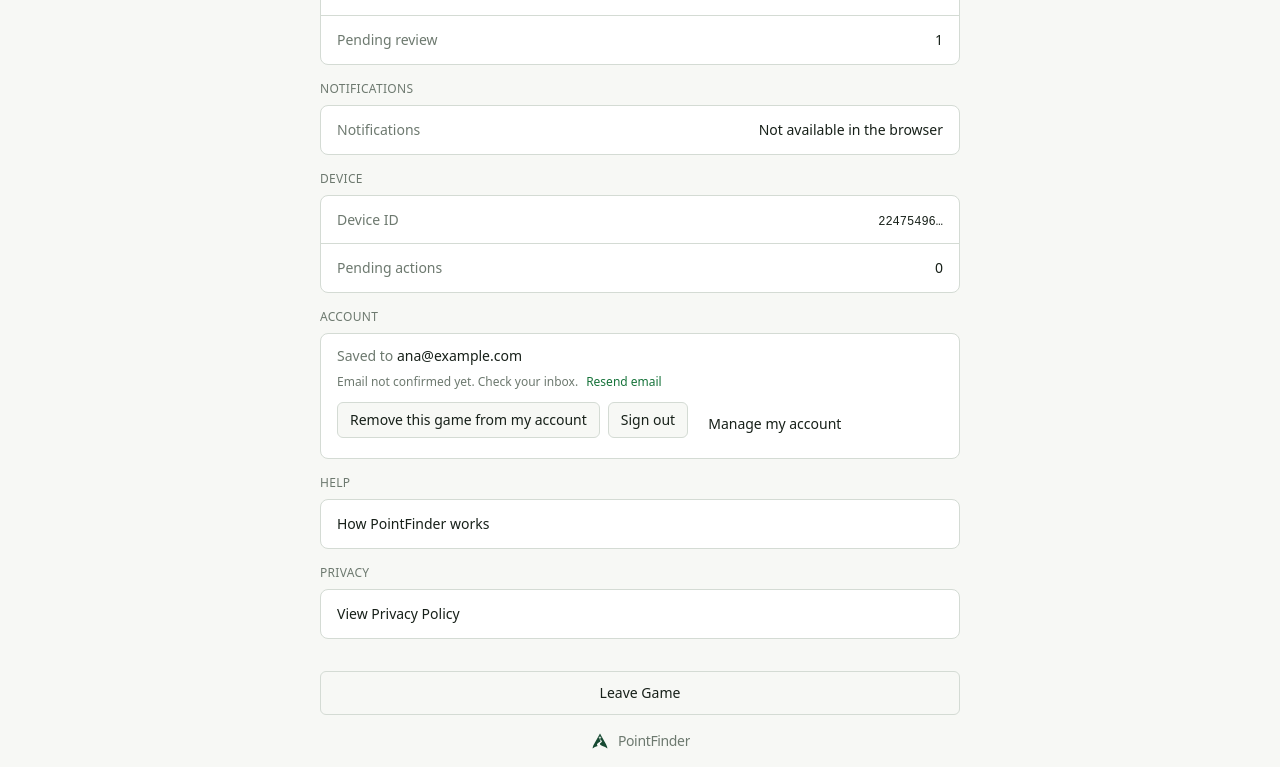
SettingsScreen › keeps account deletion out of game settings
(page scrolled)
Expected: the element with test id "settings-account-linked" shows "ana@example.com", left=397, top=346, right=522, bottom=365
Expected: the element with test id "settings-account-linked" shows "Email not confirmed yet", left=337, top=373, right=578, bottom=390
Click the button with test id "settings-resend-verification".
click(624, 382)  # box left=586, top=374, right=662, bottom=390
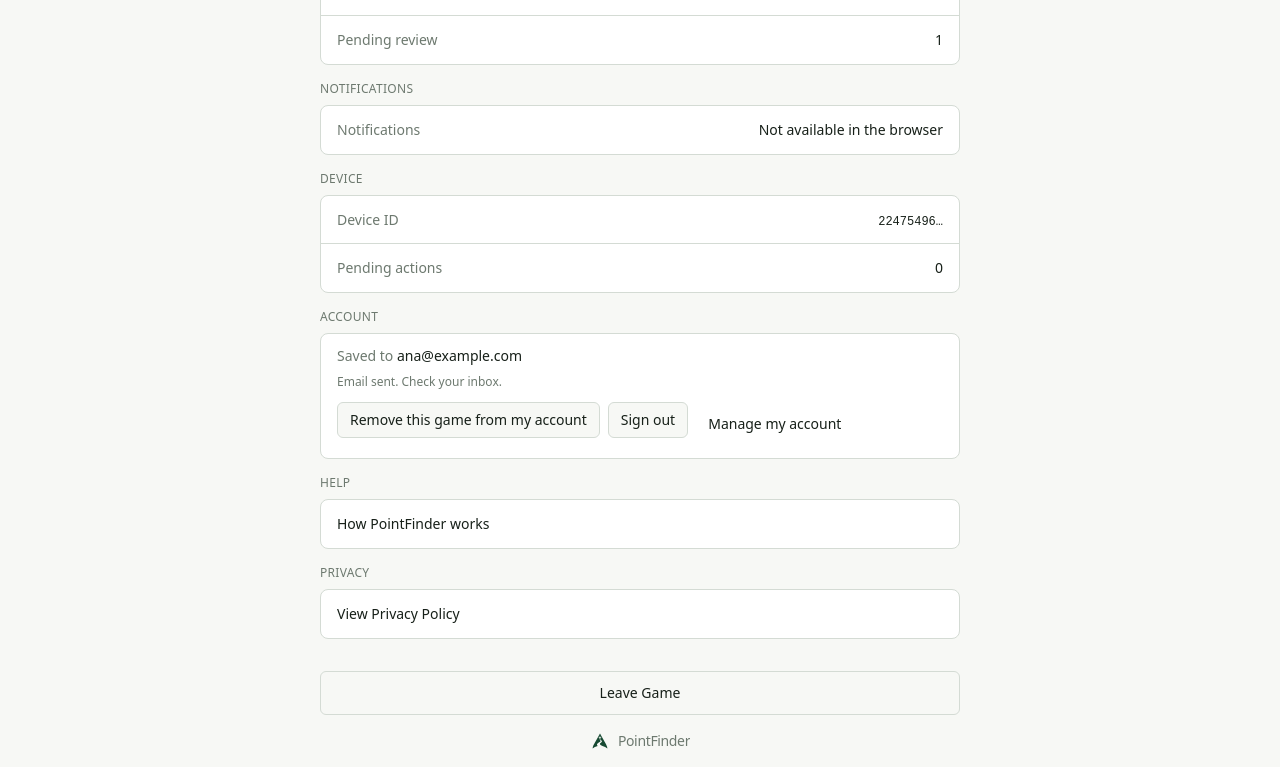
Expected: the element with test id "settings-account-unverified" shows "Email sent.", left=337, top=373, right=502, bottom=390
Click the button with test id "settings-unlink".
click(468, 420)  # box left=337, top=402, right=600, bottom=438
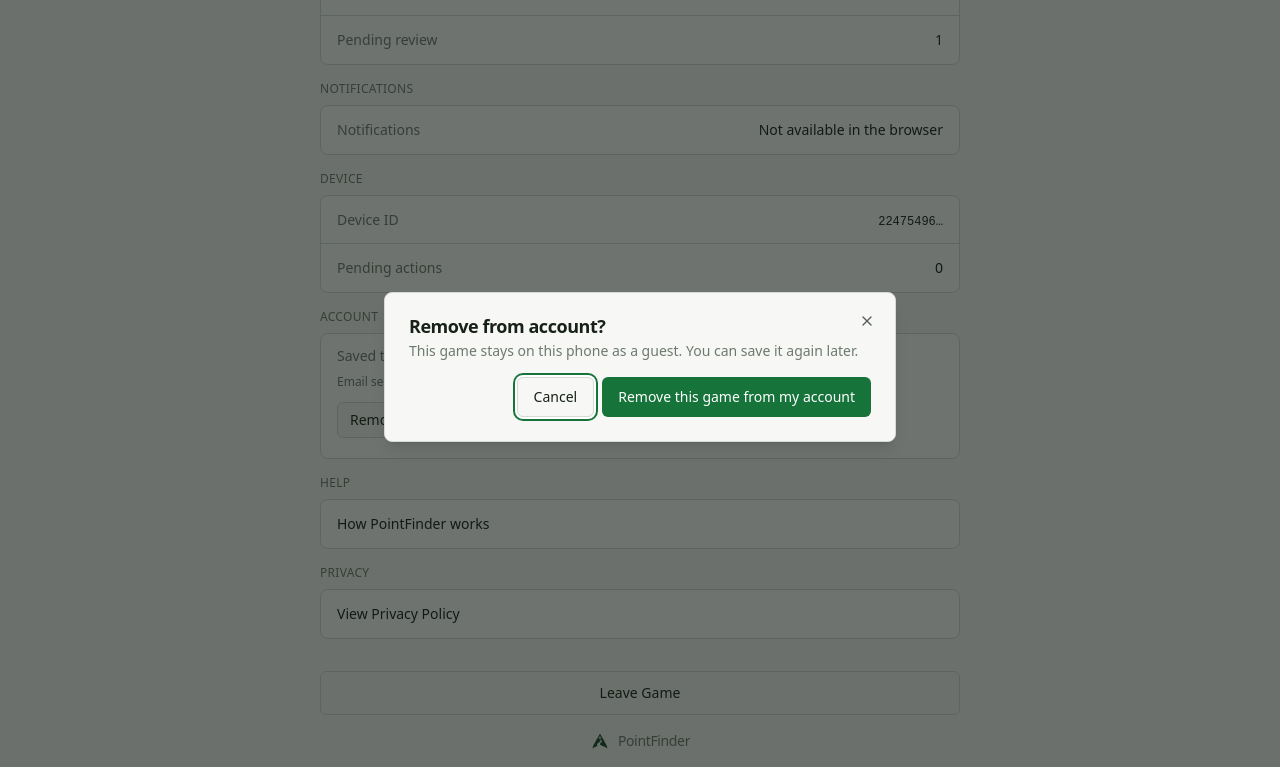
Click the button with test id "confirm-action-btn".
click(737, 397)  # box left=602, top=377, right=871, bottom=417
(page scrolled)
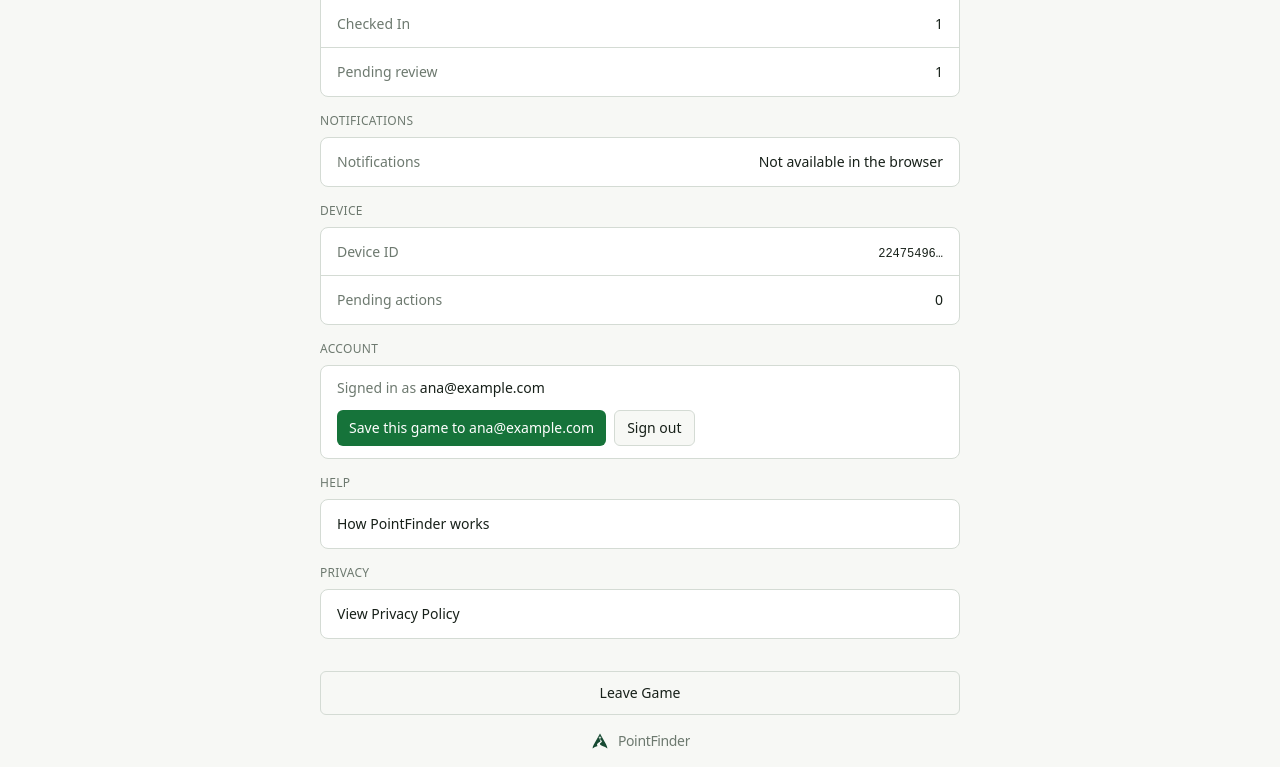
Expected: the element with test id "settings-account-signed-in" is shown, left=337, top=378, right=695, bottom=446
